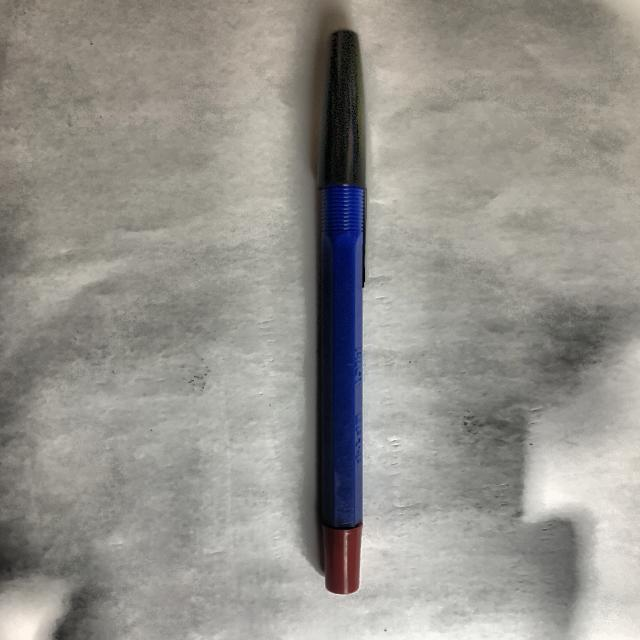Pulpen: (297, 29, 402, 617)
